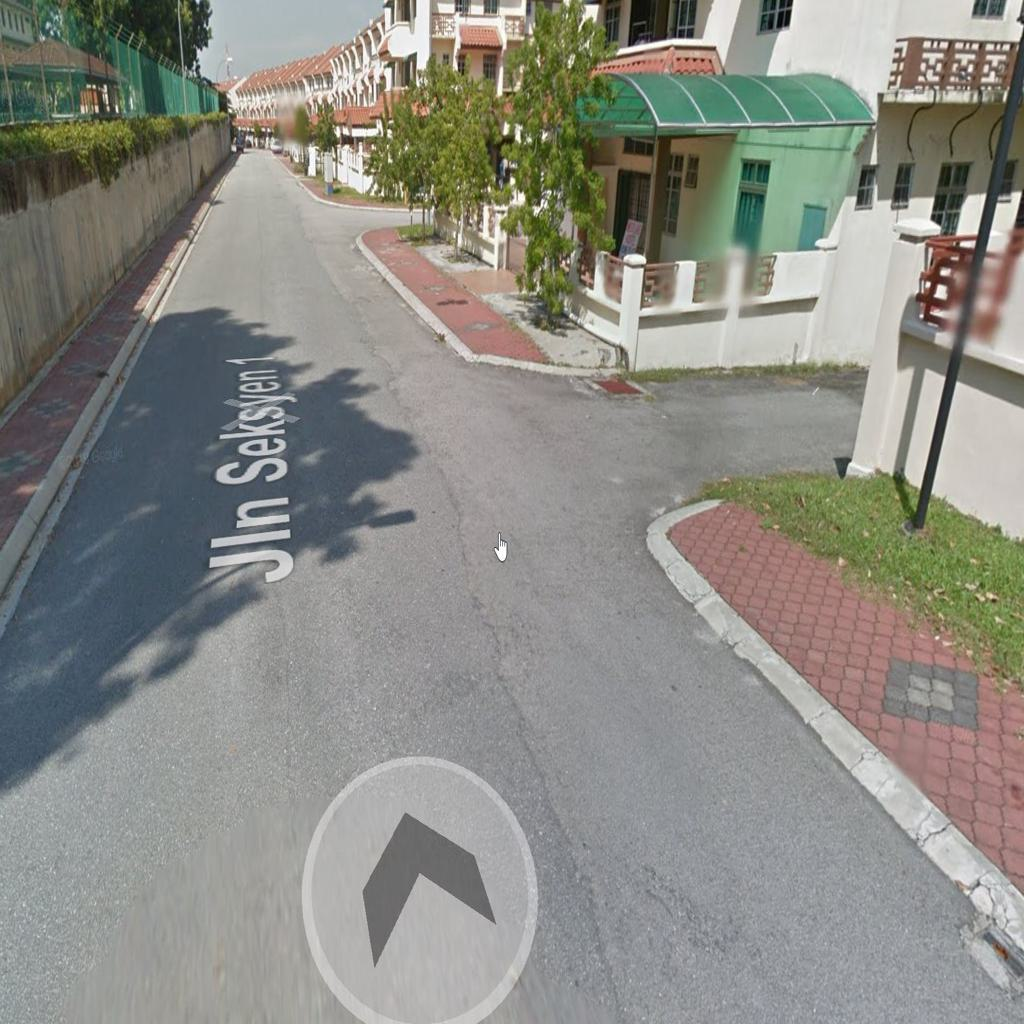Junction: (477, 329, 840, 536), (334, 184, 446, 244)
